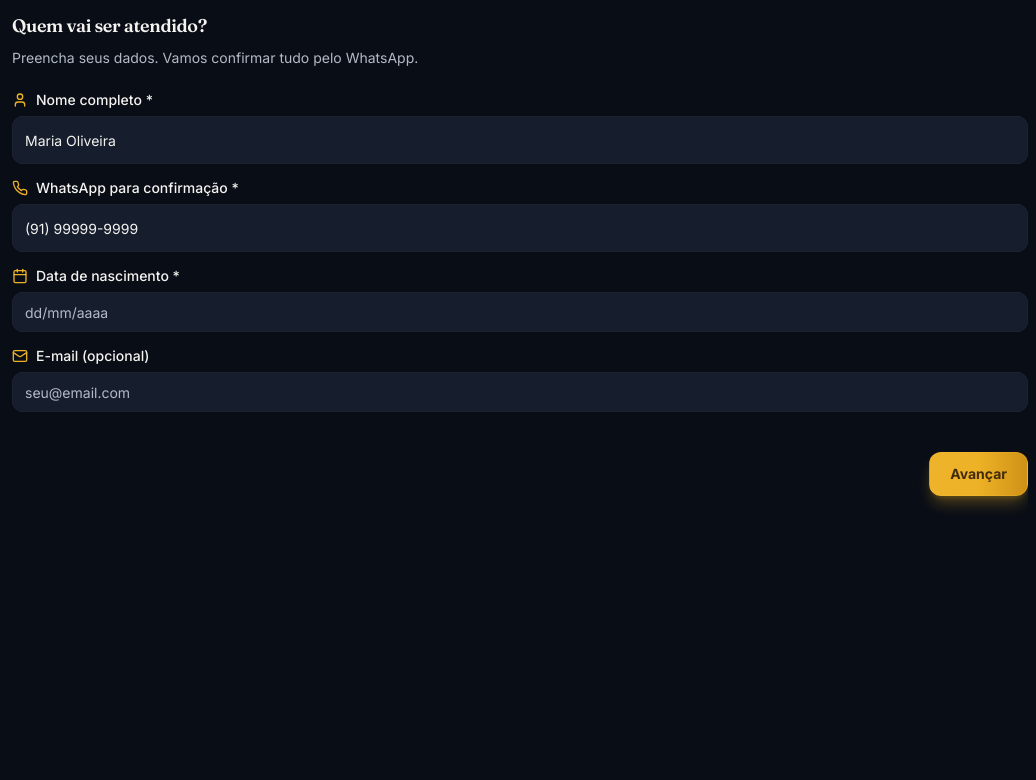
Scenario: PersonalDataStep — data de nascimento obrigatória › vazio bloqueia avanço com mensagem específica
The width and height of the screenshot is (1036, 780).
Step 1. Click the button "Avançar" → (979, 474), box [929,452,1028,496]
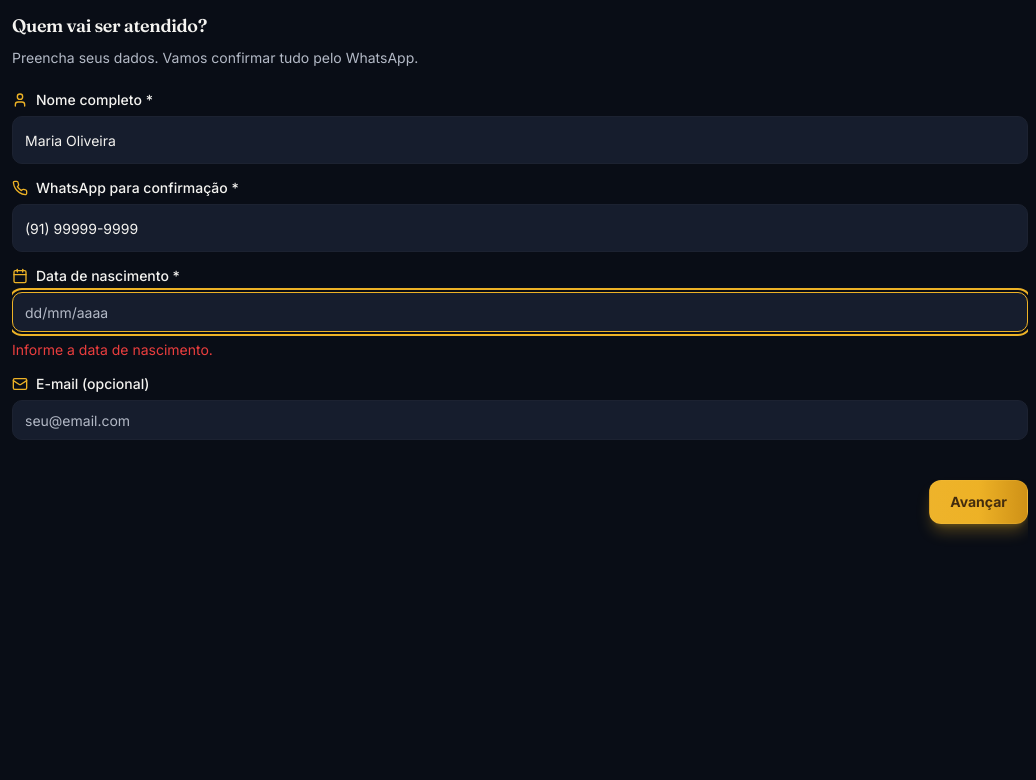
Now the text "Informe a data de nascimento." is shown, box [12,341,213,358]
